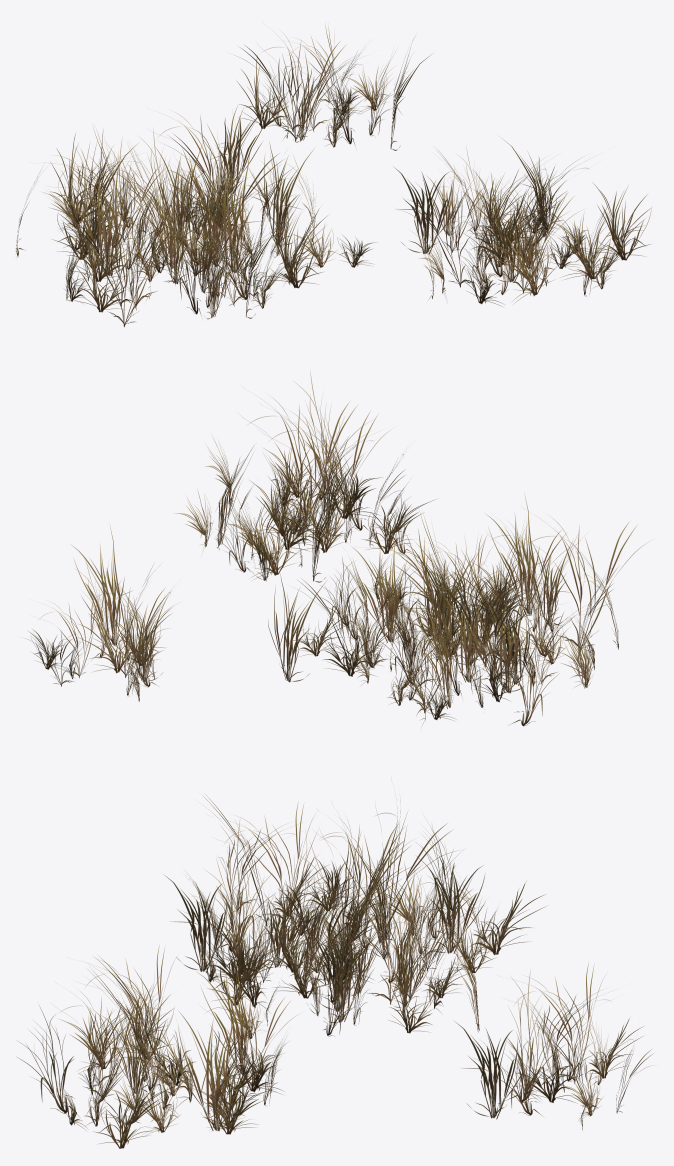
The model's file is grass-patches-hq.glb.
The picture shows the model from 3 angles, top to bottom: view 1: azimuth 30°, elevation 25°; view 2: azimuth 150°, elevation 25°; view 3: azimuth 270°, elevation 25°; orthographic projection. The views are drawn at different scales.
Parts seen in each view (by area): view 1: grasspatch1_grass1_0; view 2: grasspatch1_grass1_0; view 3: grasspatch1_grass1_0.
Boxes of the visible parts, left/top/right/bottom form: grasspatch1_grass1_0: left=16, top=26, right=651, bottom=326; grasspatch1_grass1_0: left=30, top=372, right=646, bottom=726; grasspatch1_grass1_0: left=17, top=795, right=652, bottom=1148.
Size of the model in its own units: 507 by 129 by 524.
Materials: 1 (1 with a texture image).
